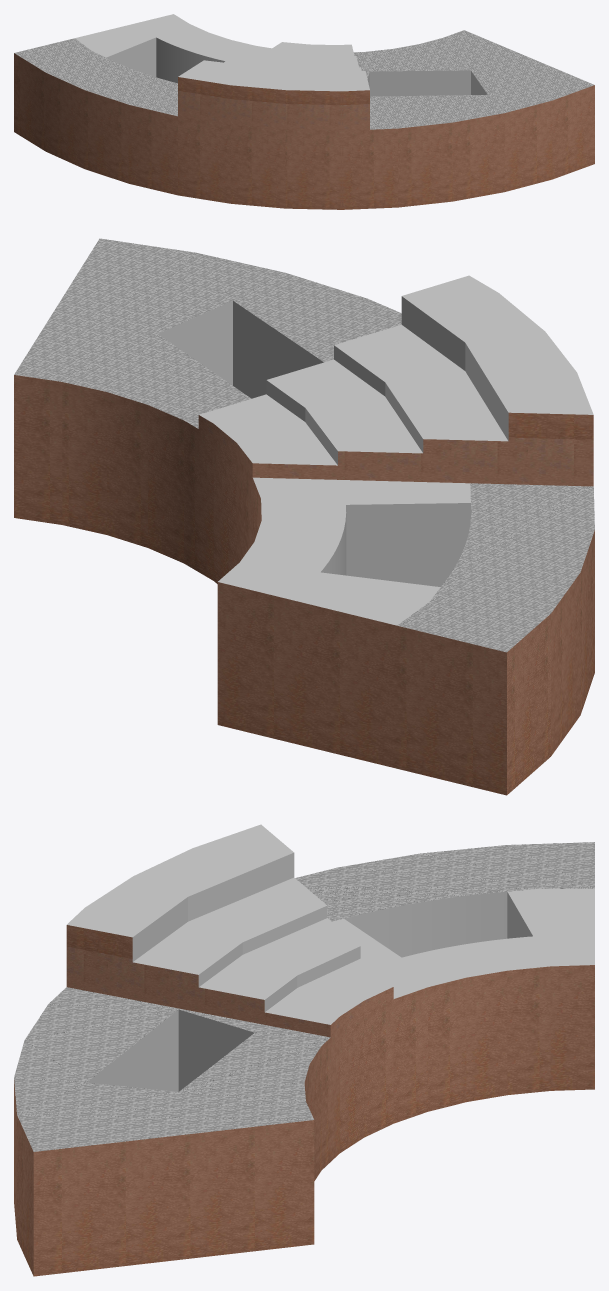
The picture shows the model from 3 angles, top to bottom: view 1: azimuth 30°, elevation 25°; view 2: azimuth 150°, elevation 25°; view 3: azimuth 270°, elevation 25°; orthographic projection. The views are drawn at different scales.
Visible parts, largest first — view 1: root; view 2: root; view 3: root.
Boxes of the visible parts, <box> form: root: <box>14,14,594,209</box>; root: <box>14,238,594,795</box>; root: <box>14,824,594,1276</box>.
Size of the model in its own units: 107 by 30 by 84.58.
4 materials, 2 textured.
